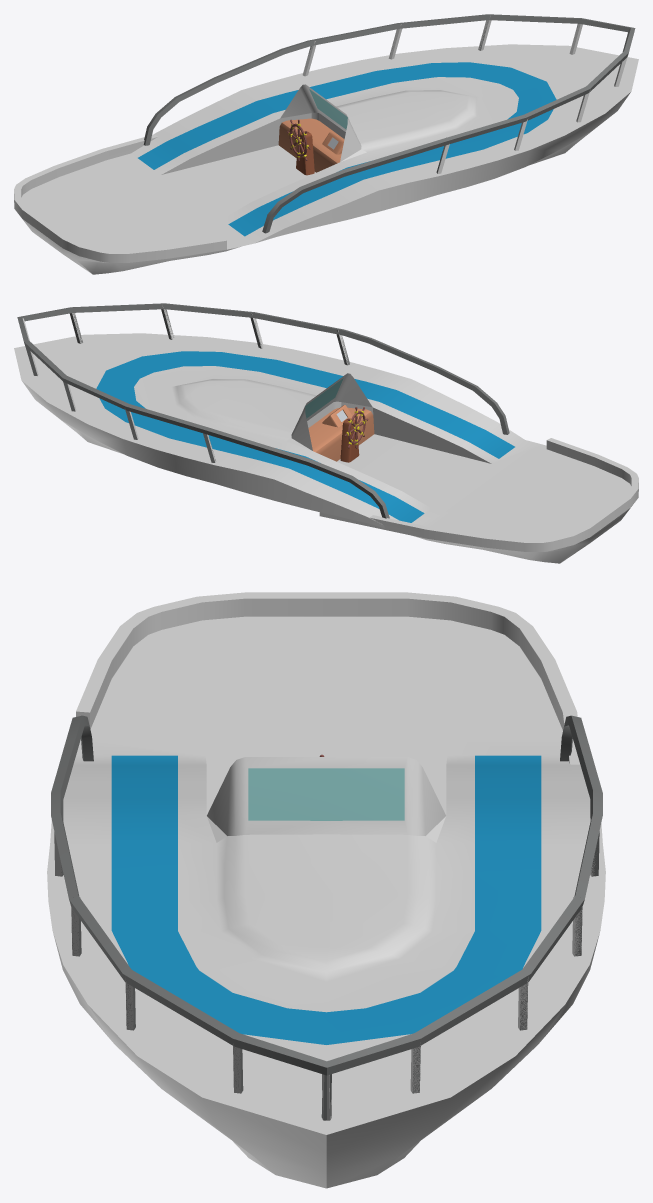
File: Yacht.fbx
3 renders of one model, top to bottom at view 1: azimuth 30°, elevation 25°; view 2: azimuth 150°, elevation 25°; view 3: azimuth 270°, elevation 25°, orthographic. The views are drawn at different scales.
Visible parts, largest first — view 1: Yacht; view 2: Yacht; view 3: Yacht.
Boxes of the visible parts, x1,y1,x2,y2 form: Yacht: [14, 14, 638, 274]; Yacht: [14, 303, 638, 563]; Yacht: [47, 592, 605, 1188].
Size of the model in its own units: 3707 by 554 by 1504.
